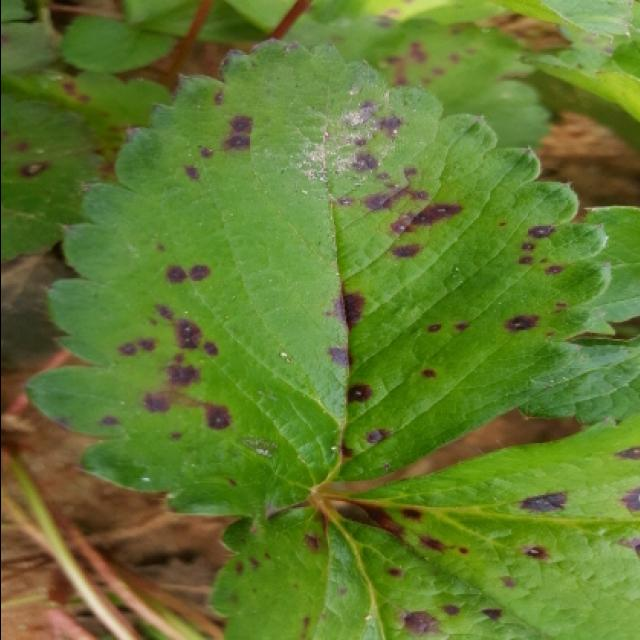Leaf Spot: (24, 36, 611, 519), (331, 411, 640, 640), (207, 504, 548, 640), (283, 12, 553, 147), (2, 92, 116, 263), (2, 67, 172, 145), (302, 2, 510, 26)
